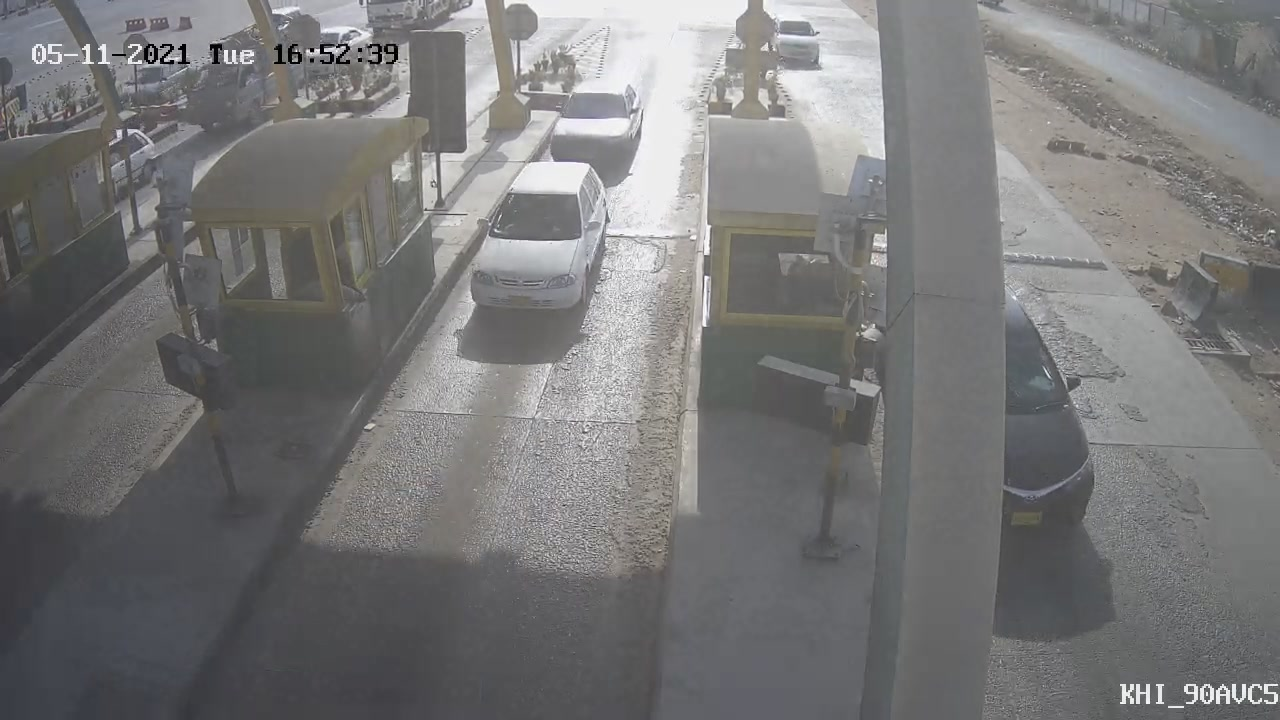F1: (448, 143, 626, 331), (531, 62, 655, 188)
